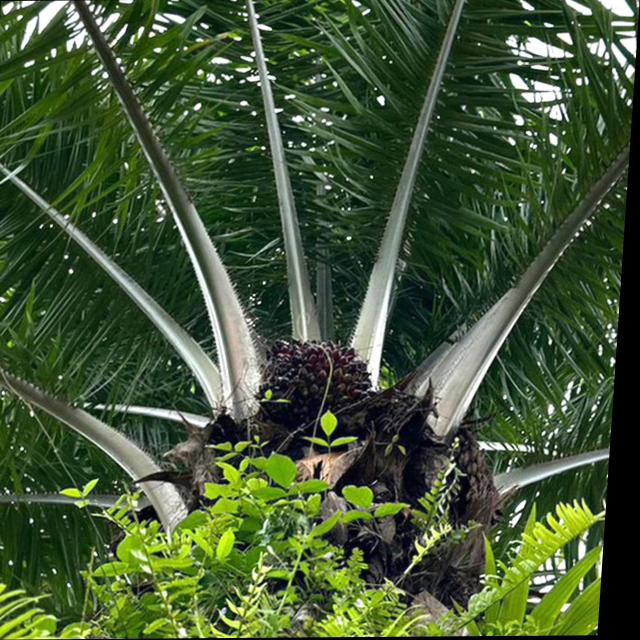ripe: (262, 332, 378, 416)
